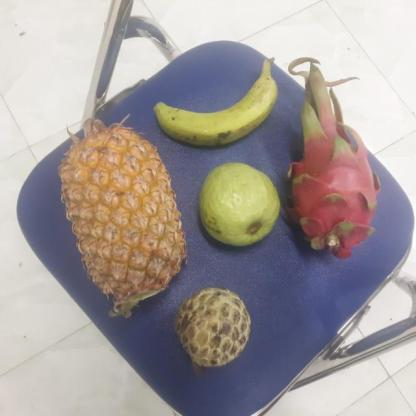annona: (171, 286, 251, 369)
banana: (151, 63, 273, 148)
guava: (194, 165, 280, 247)
pineapple: (57, 129, 184, 312)
pitaya: (280, 117, 378, 253)
